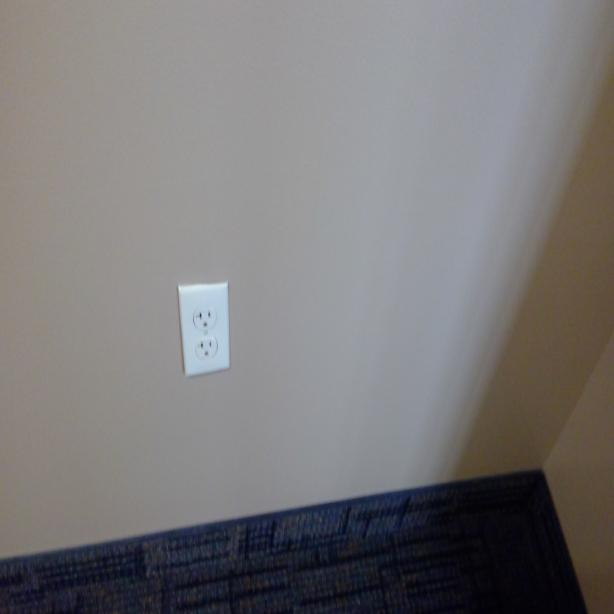typeb: (194, 307, 214, 333), (196, 337, 216, 361)
